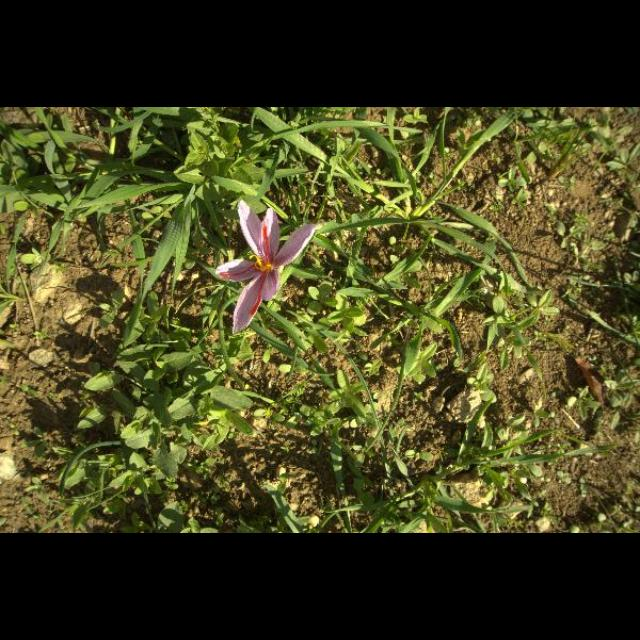flower: (215, 200, 317, 336)
